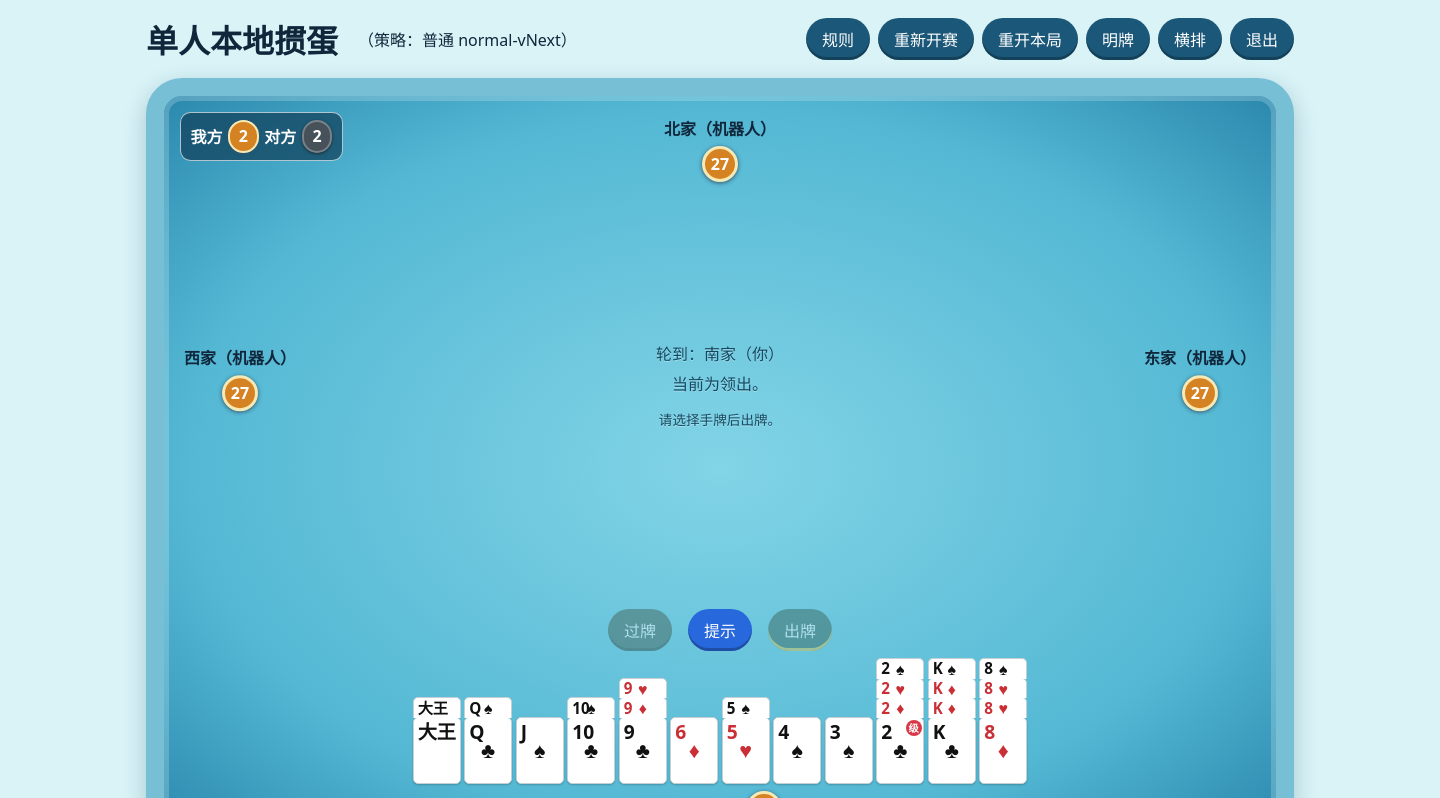
Test: App › 提示和出牌仍通过规则入口提交
What coordinates should you click on to do the following:
click the button "提示"
I would click on:
 (720, 630)
Its box is x1=688 y1=609 x2=752 y2=651.
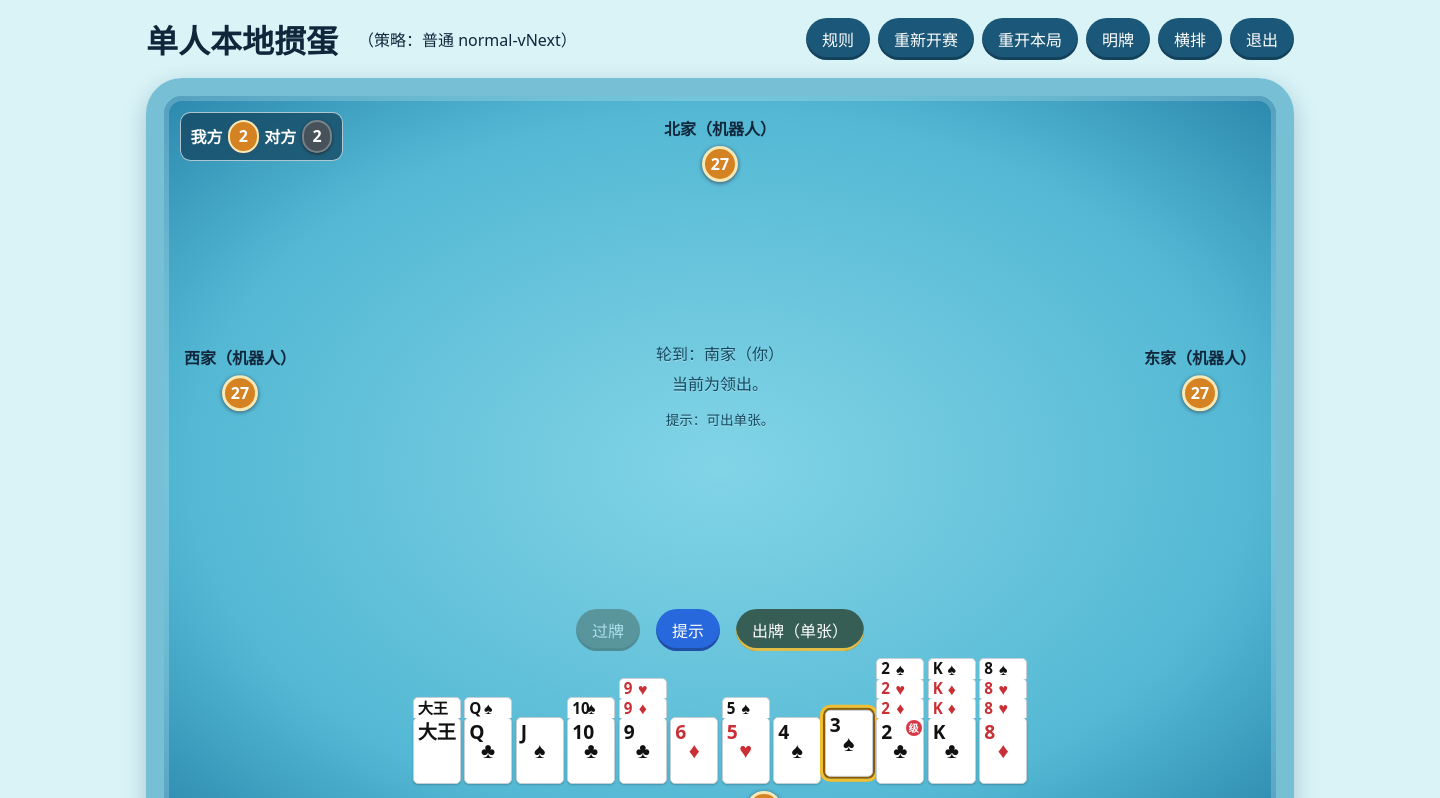
Check: the message shows "提示：可出", box x1=666 y1=410 x2=774 y2=429
What coordinates should you click on to do the following:
click the button "出牌（单张）"
I would click on:
 (800, 630)
Its box is x1=736 y1=609 x2=864 y2=651.
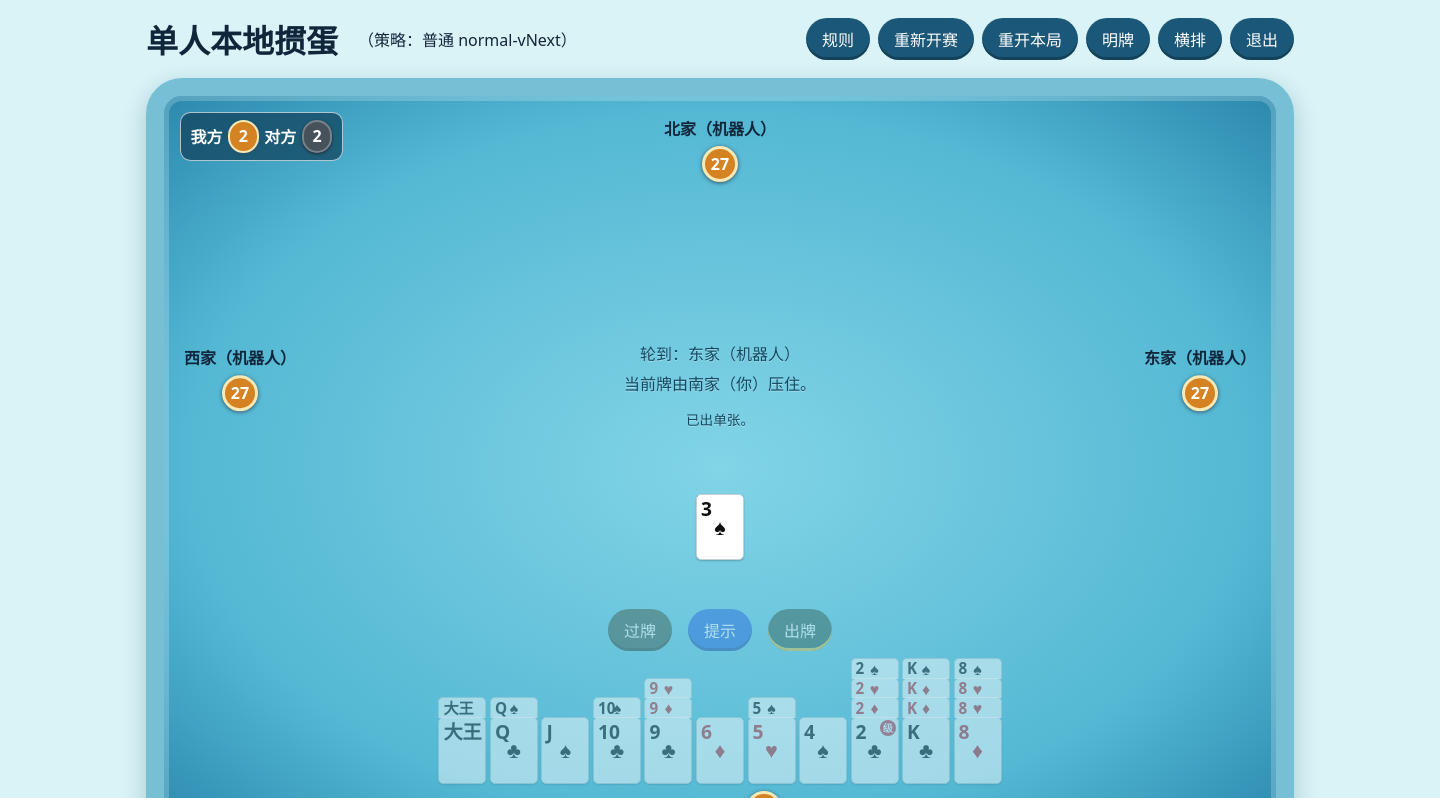
Check: the message shows "已出", box x1=686 y1=410 x2=754 y2=429
